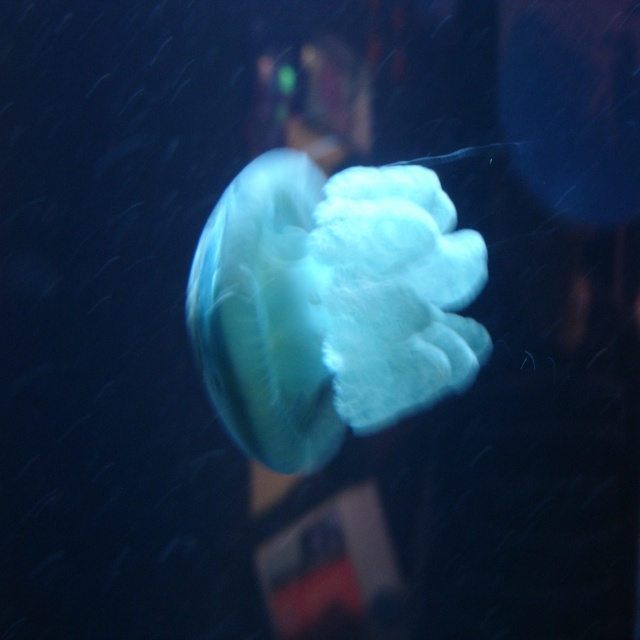Jellyfish: (192, 133, 497, 482)
